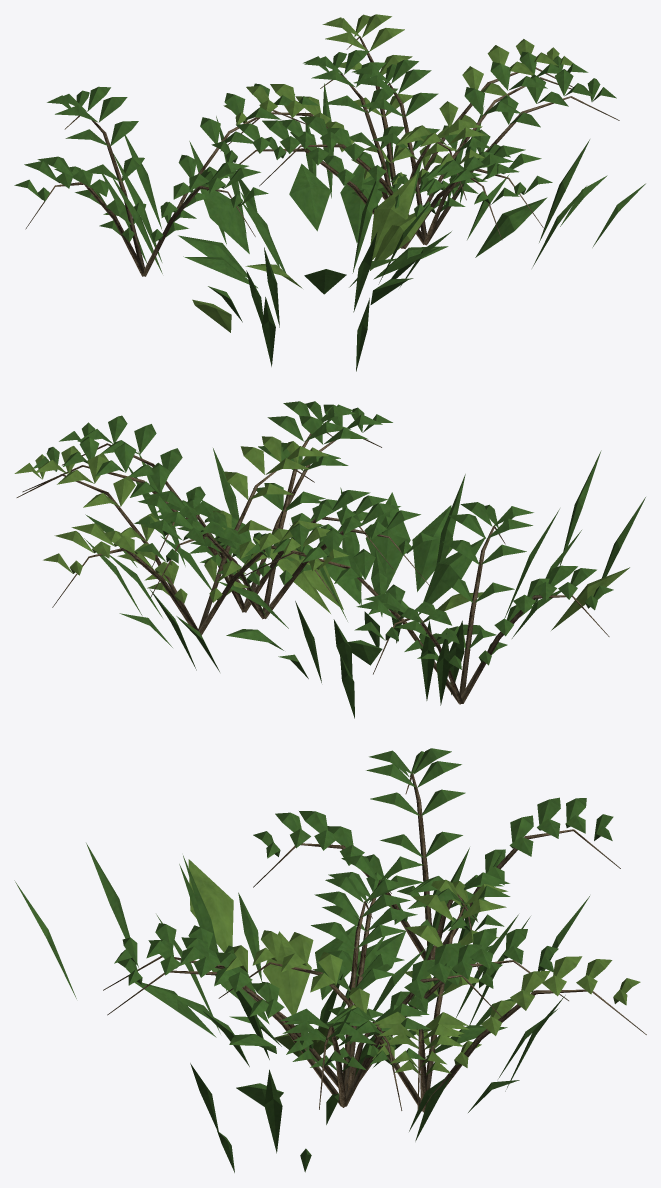
File: v3_shade_understory.glb
3 views of the same model, one above another, from view 1: azimuth 30°, elevation 25°; view 2: azimuth 150°, elevation 25°; view 3: azimuth 270°, elevation 25° (orthographic). The views are drawn at different scales.
Parts seen in each view (by area): view 1: v3_shade_leaf_surface, v3_fresh_leaf_surface, v3_wet_root_surface; view 2: v3_shade_leaf_surface, v3_fresh_leaf_surface, v3_wet_root_surface; view 3: v3_shade_leaf_surface, v3_fresh_leaf_surface, v3_wet_root_surface.
Part boxes in pixels (left/top/right/bottom): v3_shade_leaf_surface: left=14, top=50, right=645, bottom=371; v3_fresh_leaf_surface: left=192, top=14, right=572, bottom=332; v3_wet_root_surface: left=25, top=36, right=619, bottom=276; v3_shade_leaf_surface: left=33, top=401, right=645, bottom=718; v3_fresh_leaf_surface: left=14, top=436, right=629, bottom=630; v3_wet_root_surface: left=16, top=432, right=609, bottom=704; v3_shade_leaf_surface: left=14, top=748, right=613, bottom=1172; v3_fresh_leaf_surface: left=188, top=859, right=640, bottom=1075; v3_wet_root_surface: left=103, top=773, right=646, bottom=1112.
Bounding box in the file's own units: 1.35 × 0.3255 × 1.14.
Materials: 3 (3 with a texture image).
